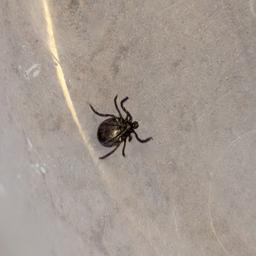Ixodes scapularis: (89, 95, 155, 160)
